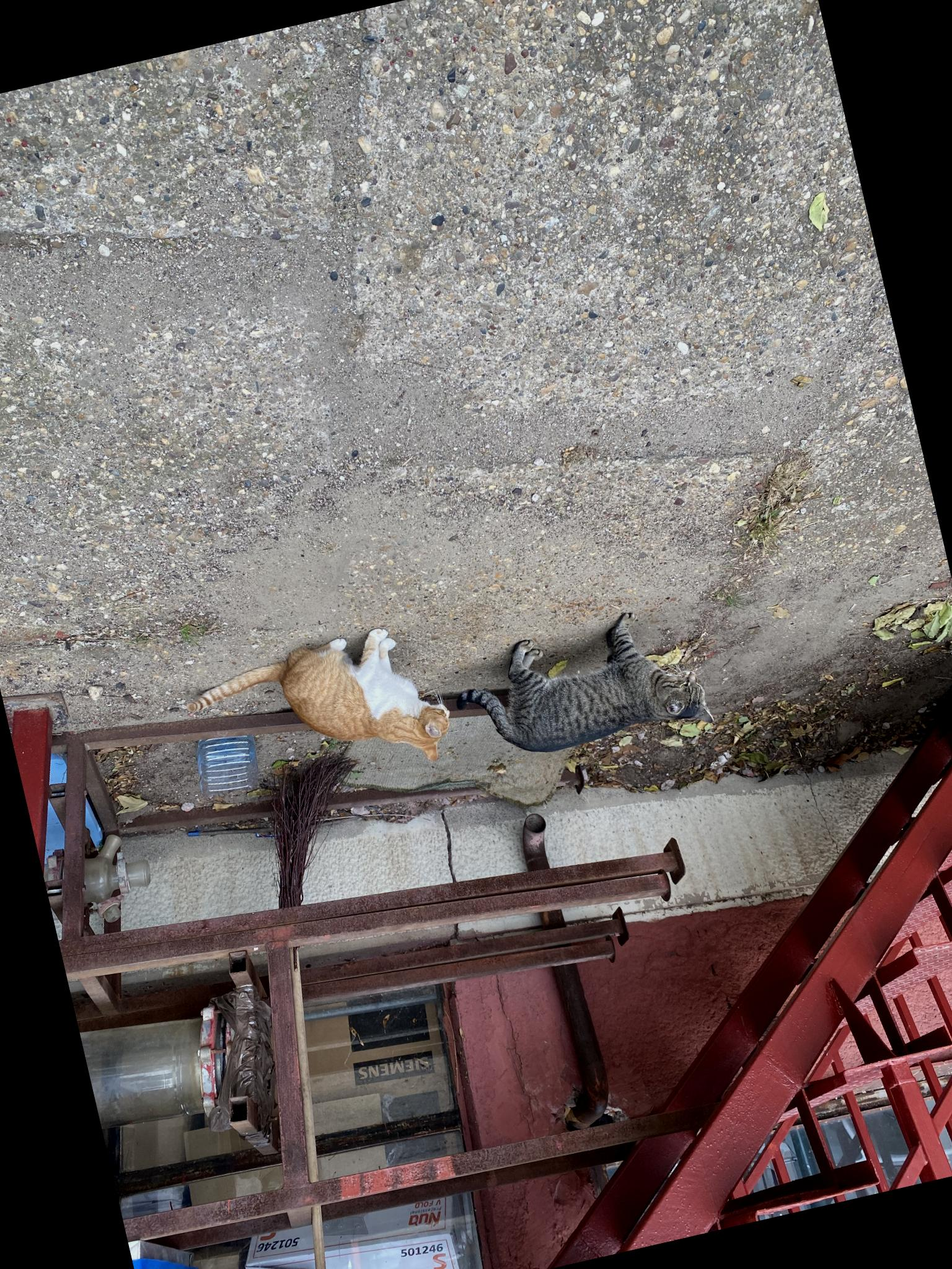macka: (179, 616, 459, 812), (444, 597, 715, 777)
